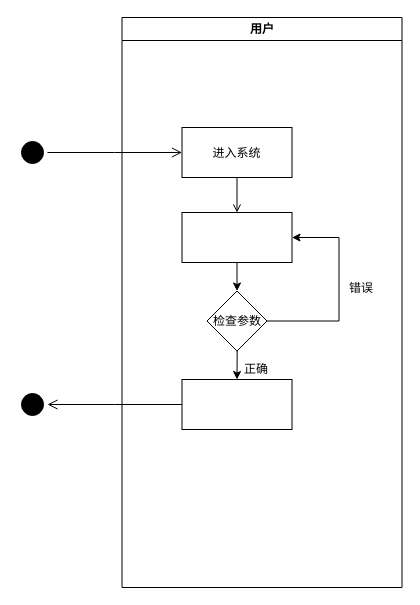
This 420x605 diagram has some shape labels left out. The shapes that lost their labels are listed below. From the top down, each one's centre as x and y in pixels, then its label:
the point at 236,237: login
the point at 236,404: 返回JWT
